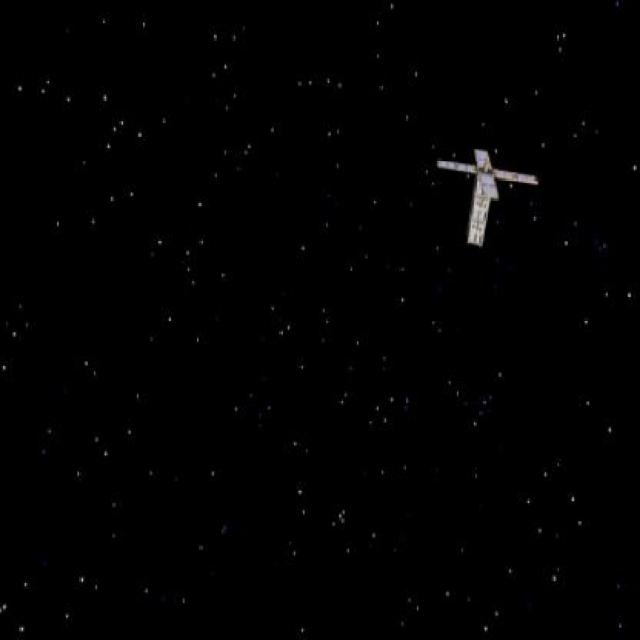satellite: (428, 137, 542, 243)
